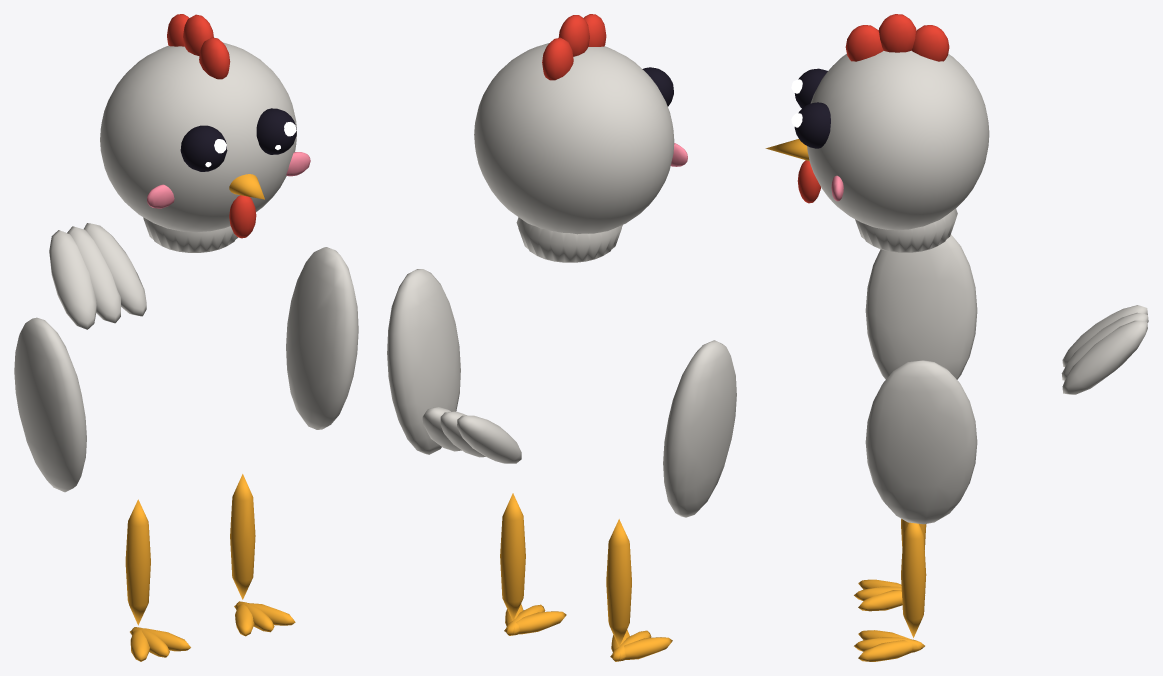
Rendered from tb_dyr_hone.glb.
3 views of the same model, side by side, from view 1: azimuth 30°, elevation 25°; view 2: azimuth 150°, elevation 25°; view 3: azimuth 270°, elevation 25° (orthographic). The views are drawn at different scales.
Visible parts, largest first — view 1: hode, vinge_h, vinge_v, hale, bein_vf, bein_hf; view 2: hode, vinge_h, vinge_v, bein_hf, bein_vf, hale; view 3: hode, vinge_h, vinge_v, hale, bein_hf, bein_vf.
Part boxes in pixels (x1,y1,x2,y2): hode: [100, 14, 310, 252]; vinge_h: [286, 247, 358, 429]; vinge_v: [14, 317, 86, 492]; hale: [49, 223, 146, 329]; bein_vf: [125, 499, 190, 661]; bein_hf: [230, 474, 295, 636]; hode: [474, 14, 687, 262]; vinge_h: [387, 269, 460, 454]; vinge_v: [663, 340, 736, 517]; bein_hf: [500, 493, 566, 635]; bein_vf: [606, 519, 672, 661]; hale: [422, 407, 521, 463]; hode: [765, 14, 989, 252]; vinge_h: [865, 360, 977, 524]; vinge_v: [865, 234, 977, 379]; hale: [1061, 305, 1148, 394]; bein_hf: [854, 522, 926, 661]; bein_vf: [854, 519, 926, 611].
Bounding box in the file's own units: 0.9133 × 1.7 × 0.96.
